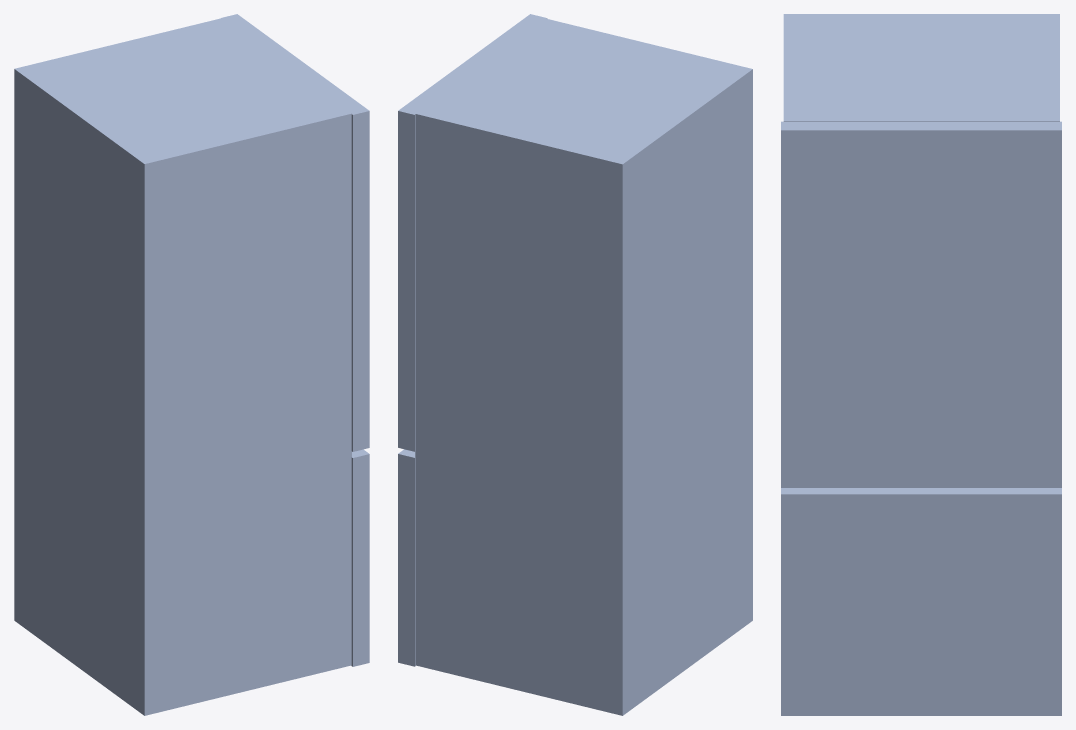
The model's file is Fridge.fbx.
3 renders of one model, left to right at view 1: azimuth 30°, elevation 25°; view 2: azimuth 150°, elevation 25°; view 3: azimuth 270°, elevation 25°, orthographic. The views are drawn at different scales.
Parts seen in each view (by area): view 1: FridgeBase, FridgeDoorTop, FridgeDoorBottom; view 2: FridgeBase, FridgeDoorTop, FridgeDoorBottom; view 3: FridgeDoorTop, FridgeDoorBottom, FridgeBase.
Part boxes in pixels (x1,y1,x2,y2): FridgeBase: (14, 18, 351, 715); FridgeDoorTop: (221, 14, 369, 451); FridgeDoorBottom: (351, 449, 369, 666); FridgeBase: (415, 18, 752, 715); FridgeDoorTop: (398, 14, 547, 451); FridgeDoorBottom: (398, 449, 415, 666); FridgeDoorTop: (781, 121, 1061, 487); FridgeDoorBottom: (781, 488, 1061, 715); FridgeBase: (783, 14, 1059, 121).
Bounding box in the file's own units: 170 × 402 × 175.
